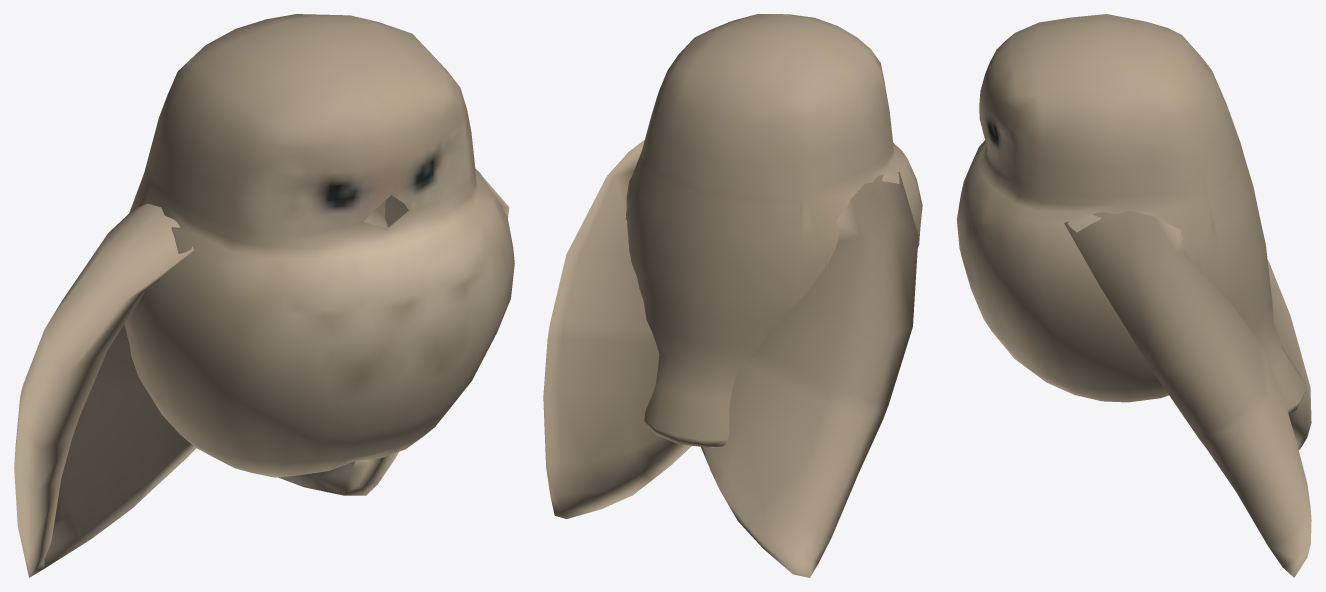
File: bbs-bird-night.glb
3 views of the same model, side by side, from view 1: azimuth 30°, elevation 25°; view 2: azimuth 150°, elevation 25°; view 3: azimuth 270°, elevation 25° (orthographic). The views are drawn at different scales.
Size of the model in its own units: 4.42 by 5.76 by 3.91.
1 material, 1 textured.
